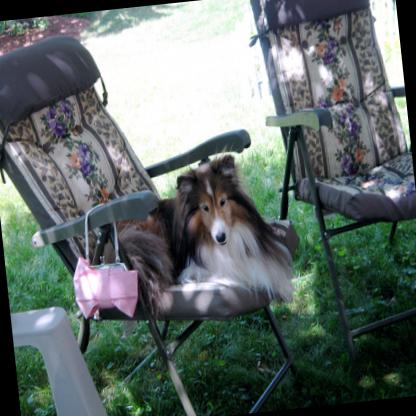Shetland_sheepdog: (82, 143, 297, 326)
